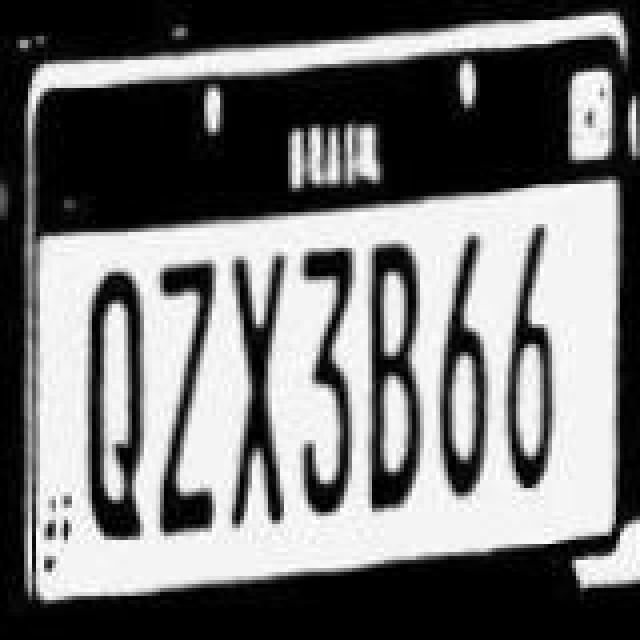3: (294, 242, 362, 522)
6: (494, 220, 566, 500), (436, 222, 496, 506)
B: (362, 238, 430, 522)
Q: (74, 262, 150, 546)
X: (220, 250, 292, 534)
Z: (154, 262, 222, 538)
